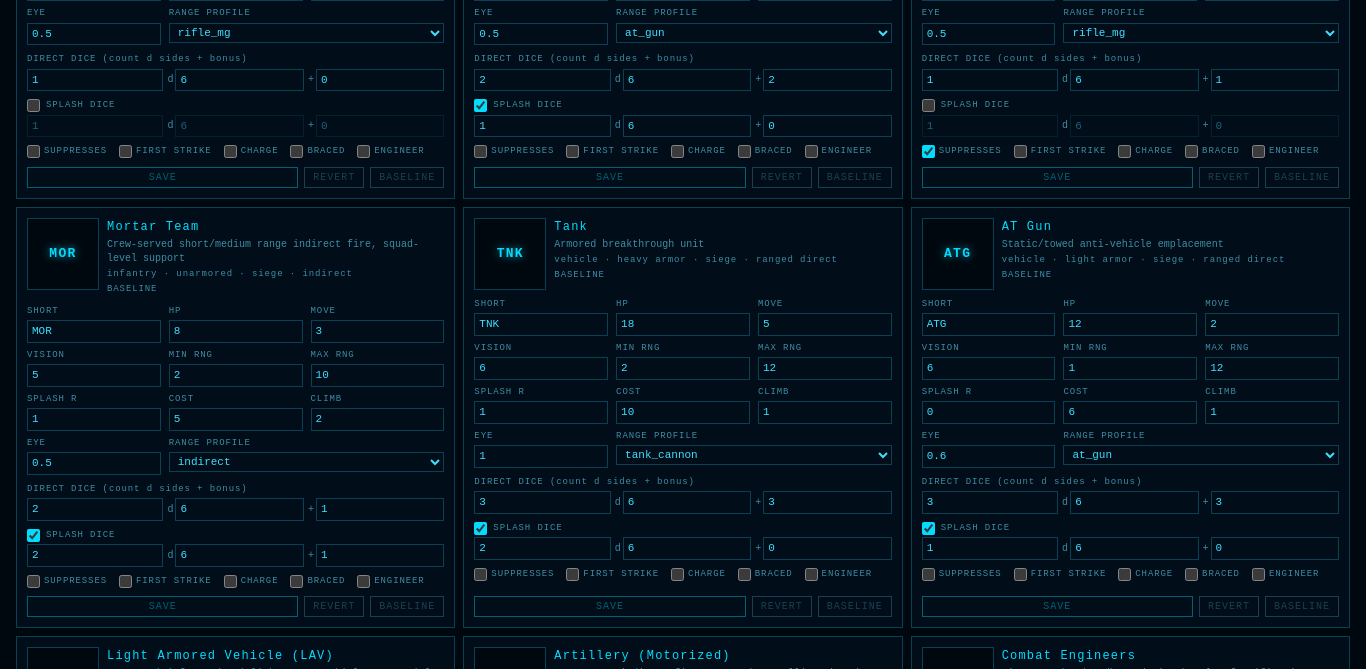
Test: BalanceLab › shows validation errors inline and does not save
This screenshot has width=1366, height=669.
(page scrolled)
Replace the text in the number field named "Tank MIN RNG" with "30" at point(683, 368), box [616, 357, 750, 380]
(page scrolled)
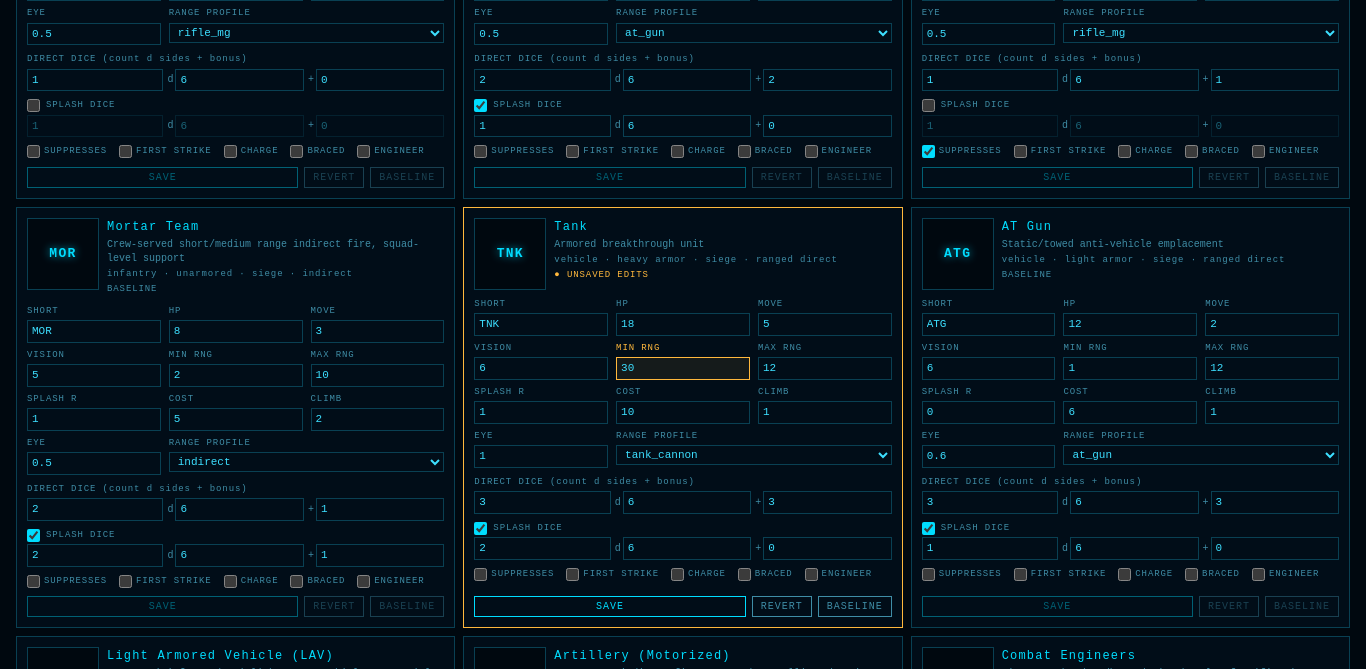
Replace the text in the number field named "Tank MAX RNG" with "2" at point(825, 368), box [758, 357, 892, 380]
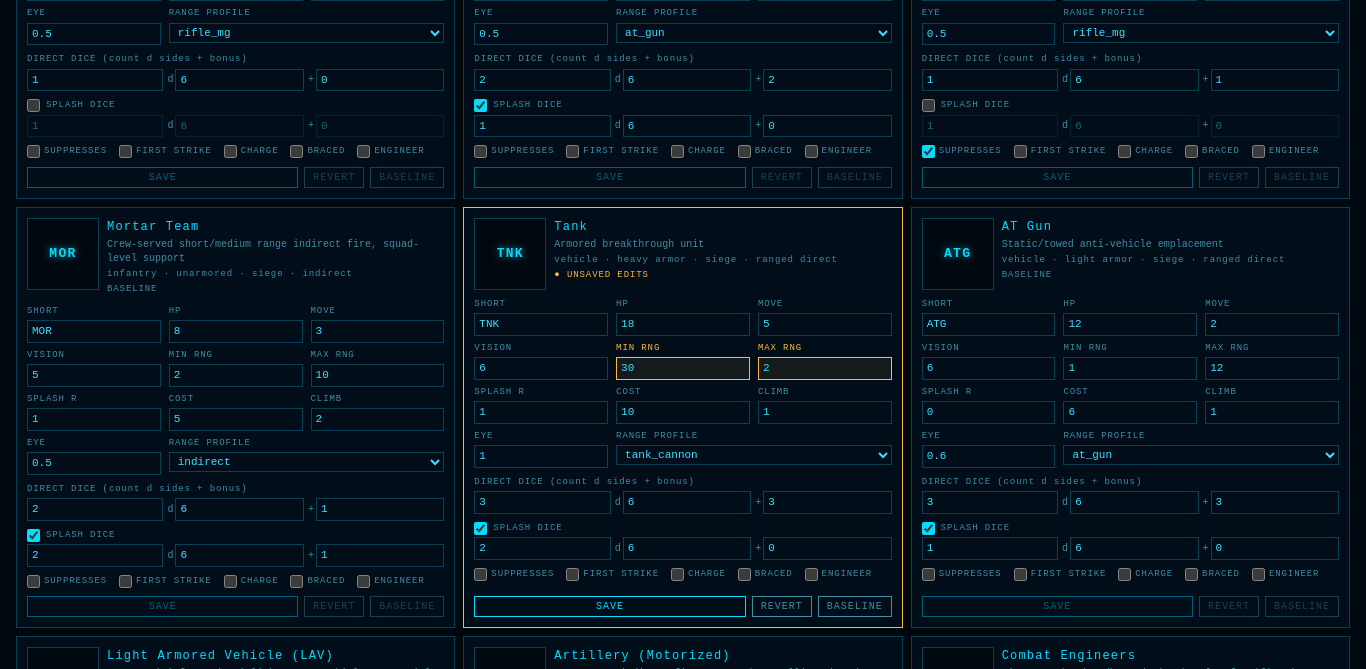
Click the button "SAVE" below "● UNSAVED EDITS" at point(610, 606), box [474, 596, 746, 617]
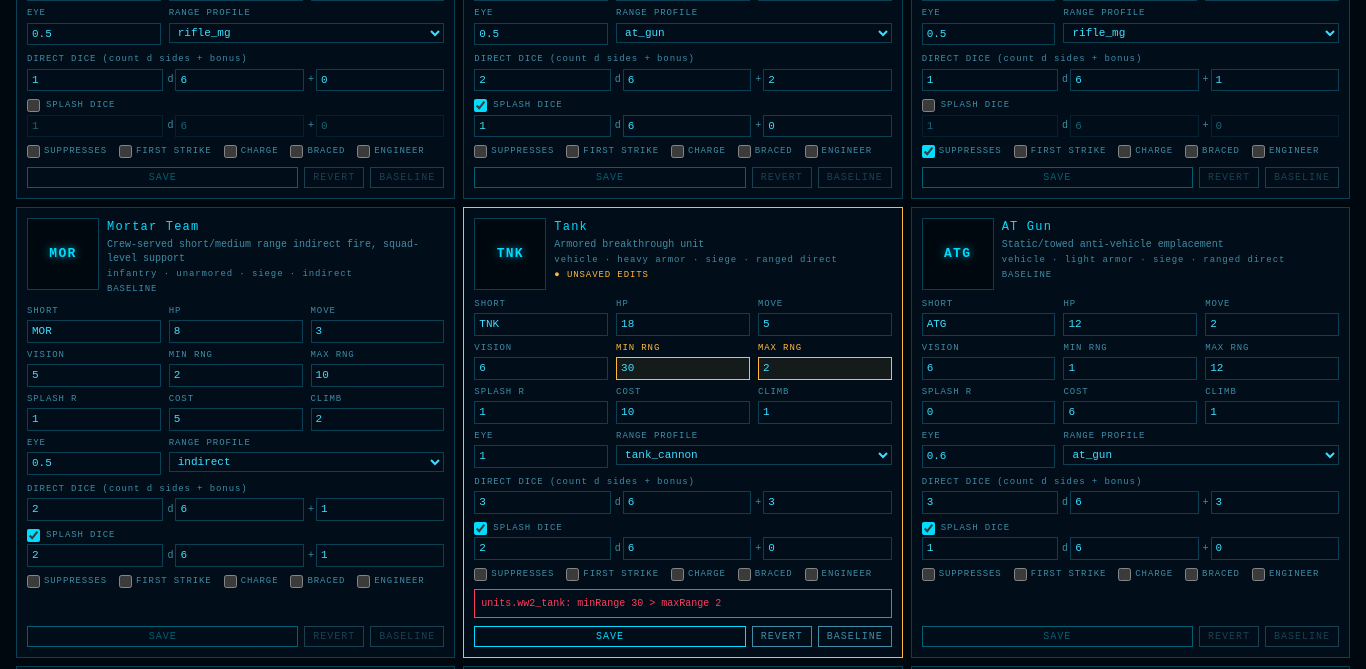
Expected: the message shows "minRange 30 > maxRange 2", [481, 598, 721, 609]
Clear the number field named "Tank HP" at point(683, 324), box [616, 313, 750, 336]
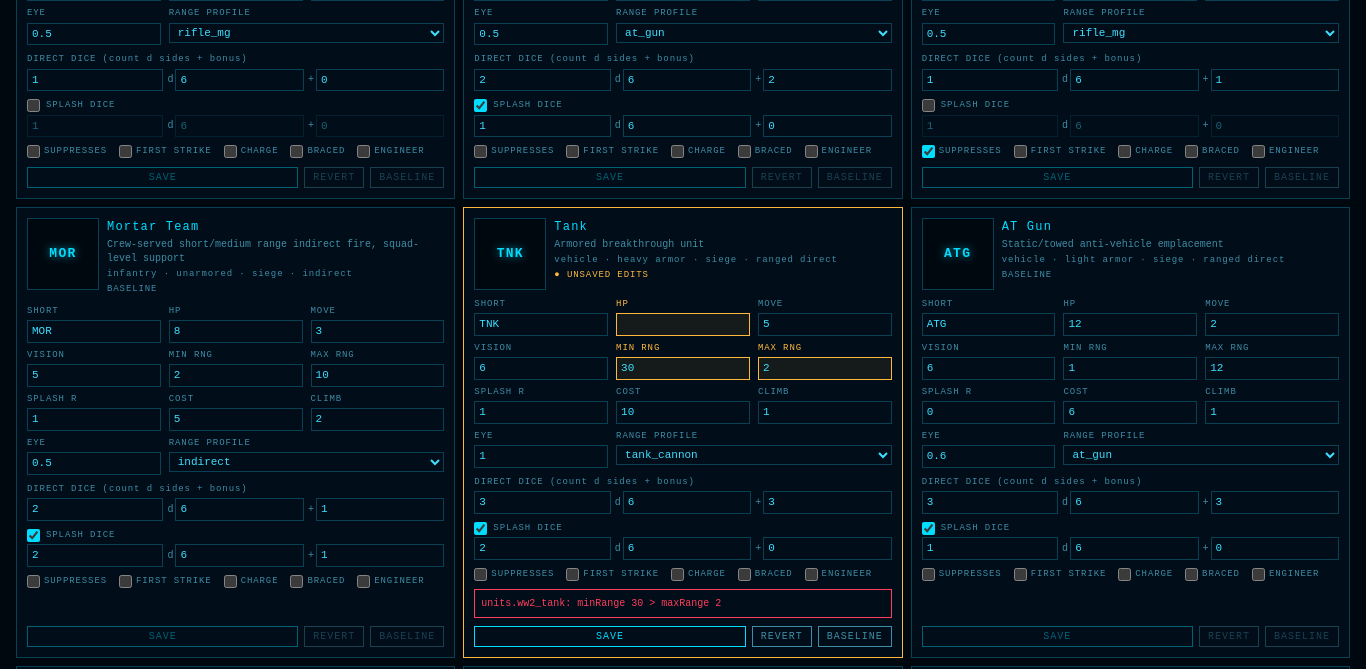
Click the button "SAVE" below "units.ww2_tank: minRange 30 > maxRange 2" at point(610, 636), box [474, 626, 746, 647]
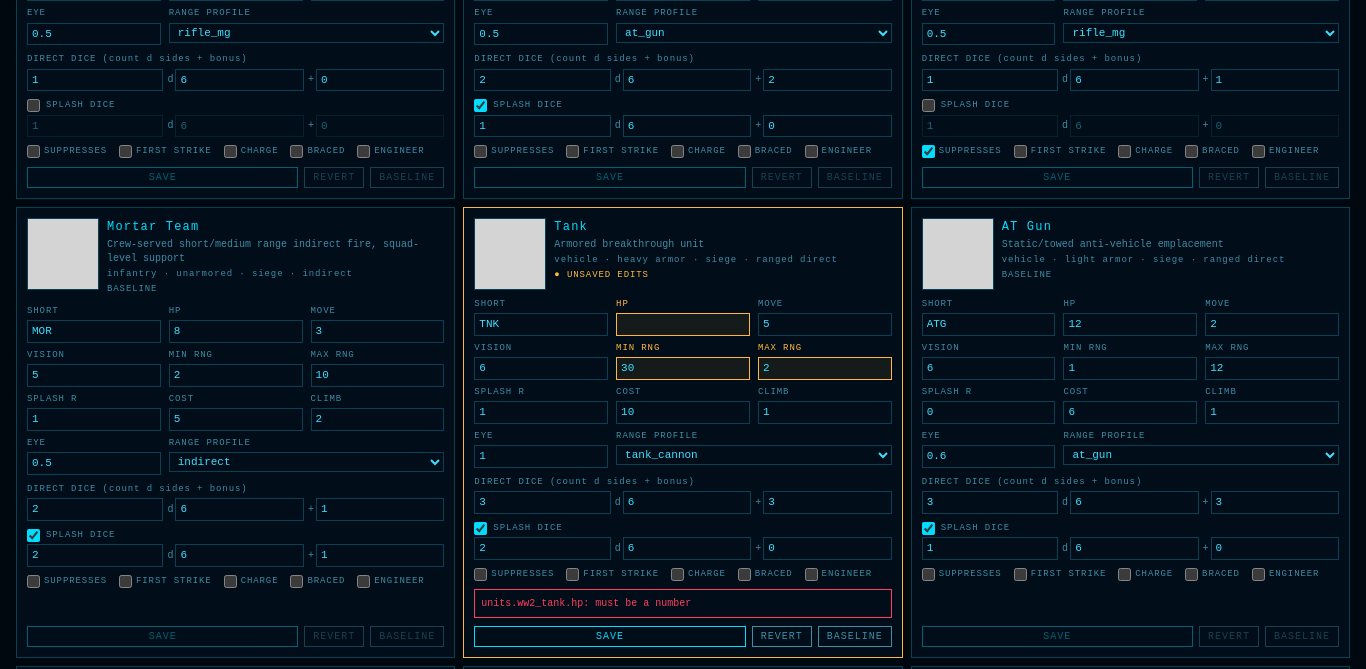
Expected: the message shows "hp: must be a number", [481, 598, 691, 609]
